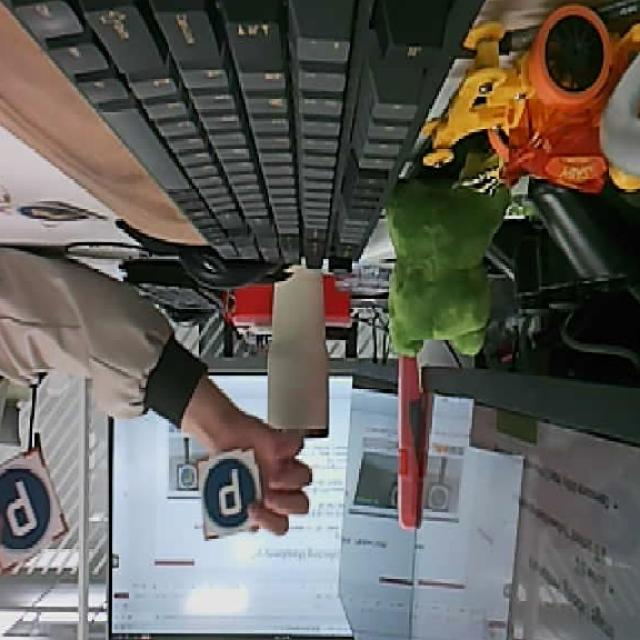parking: (0, 447, 70, 571), (192, 448, 269, 542)
